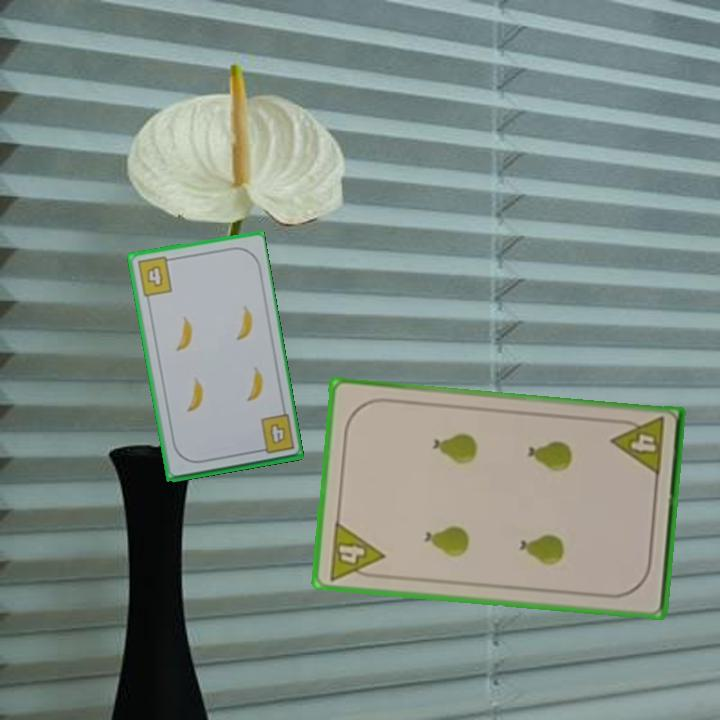4b: (252, 411, 297, 457), (134, 253, 176, 299)
4p: (325, 518, 387, 583), (608, 414, 667, 479)
